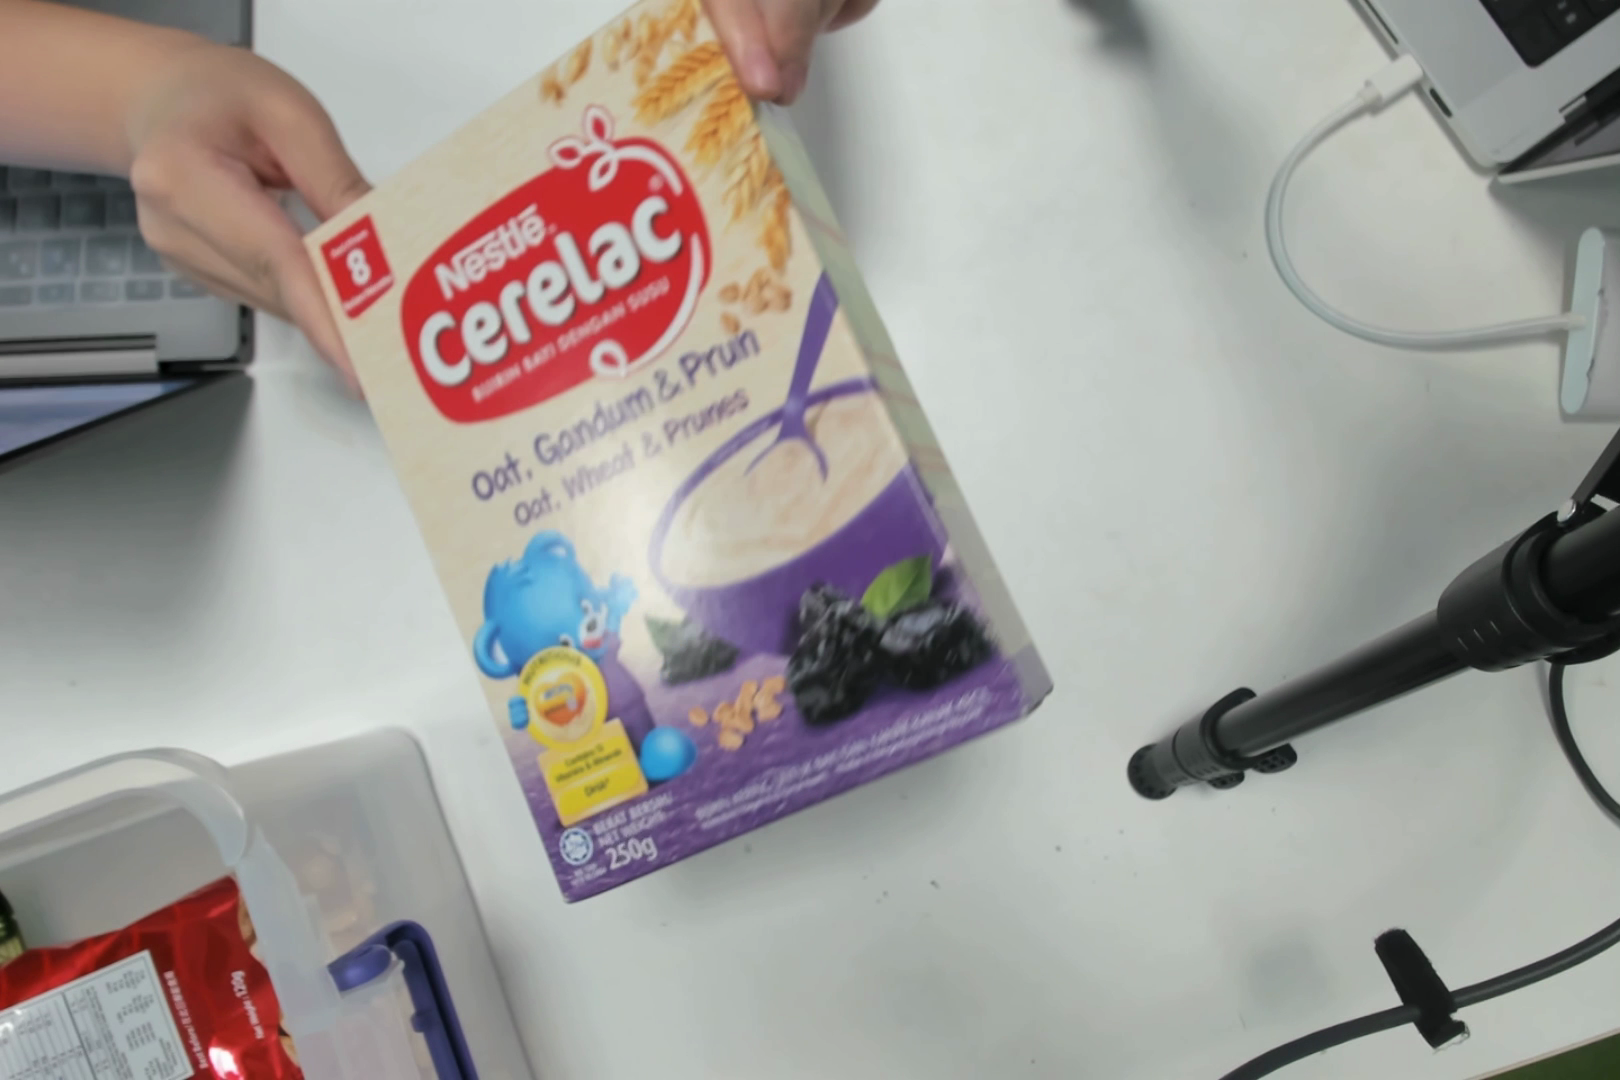d: (323, 207, 984, 909)
